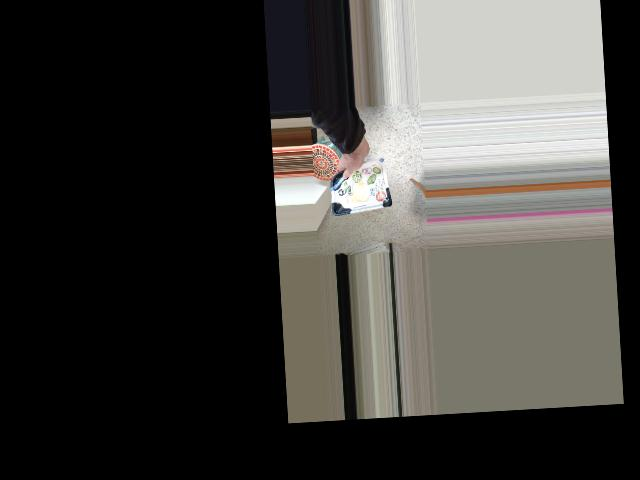cheese: (336, 149, 390, 198)
